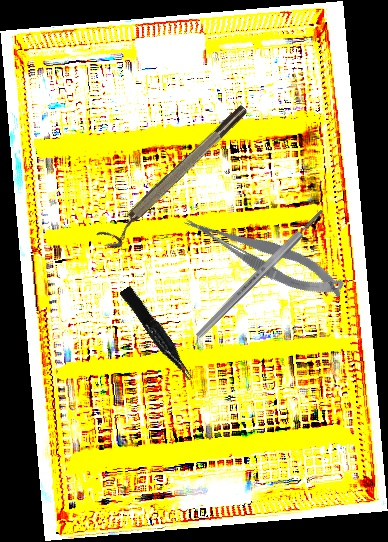Fixation Ring: (95, 101, 257, 254)
Micro Scissor: (180, 195, 349, 314)
Scalpel Handle: (193, 207, 327, 340)
Tissue Forceps: (119, 283, 195, 386)
